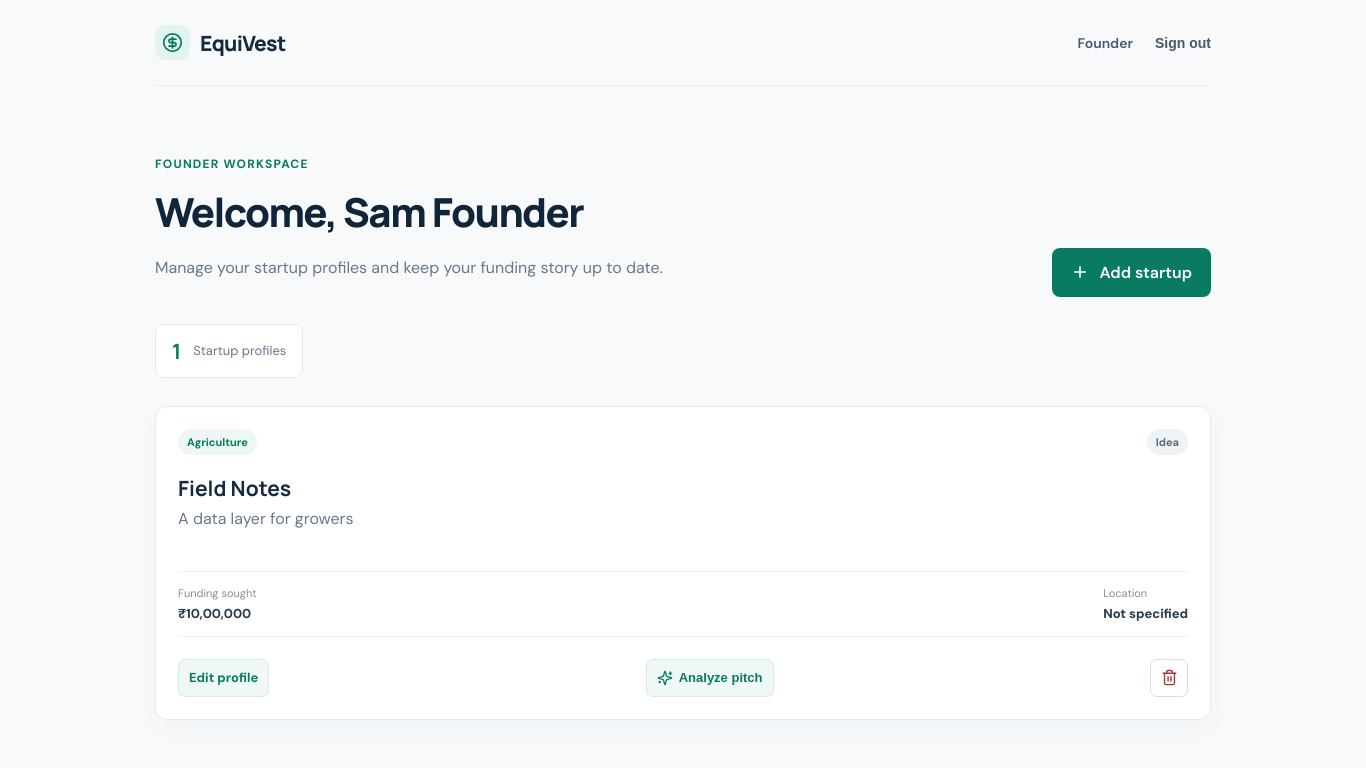
it: founder startup pages › shows a configuration message and retry action when analysis is unavailable
Click the button "Analyze pitch": [710, 678] box 646,659 -> 774,697
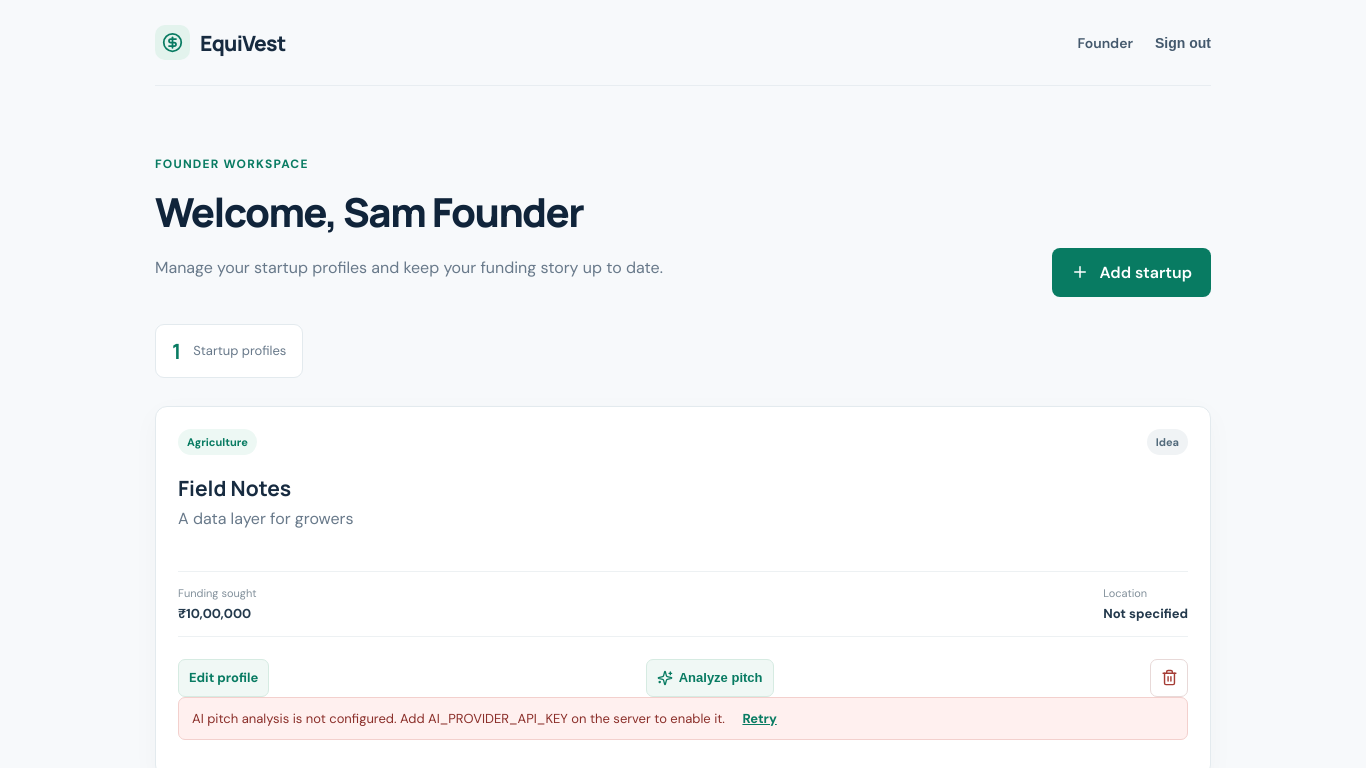
Now the message shows "AI pitch analysis is not configured", box 192,710 -> 725,727
Now the button "Retry" is shown, box 736,709 -> 783,728
